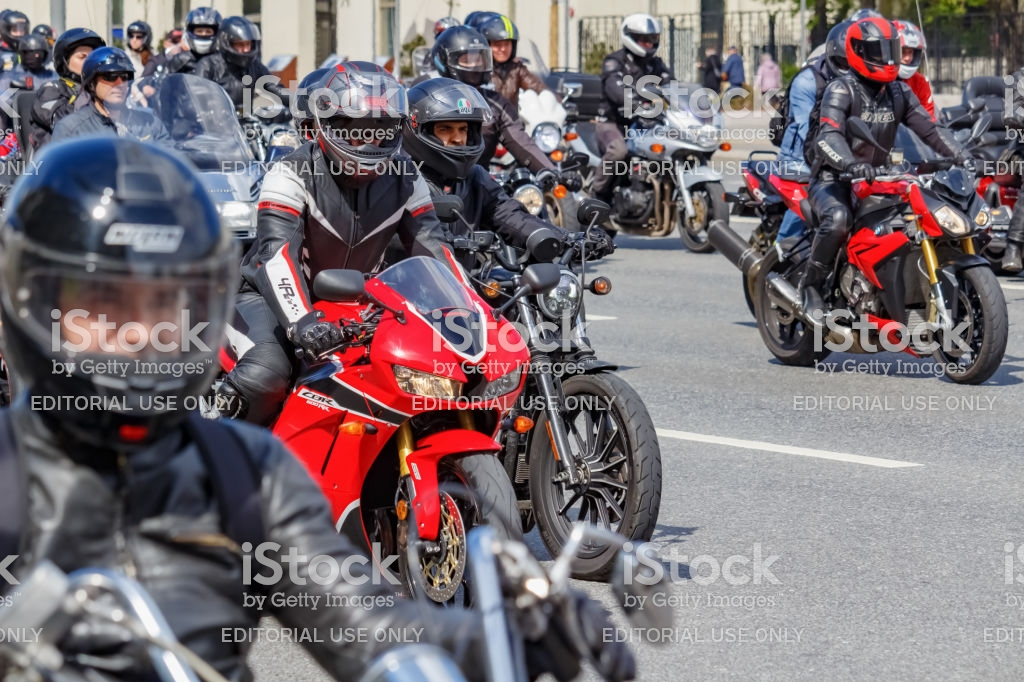helmet: (6, 145, 229, 425), (318, 63, 425, 173), (405, 73, 498, 169), (429, 26, 508, 95), (846, 15, 916, 89)
